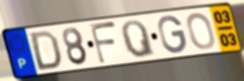8: (62, 26, 89, 68)
D: (29, 29, 63, 72)
F: (88, 21, 119, 66)
G: (156, 14, 188, 55)
O: (185, 11, 217, 51)
Q: (120, 19, 158, 59)
